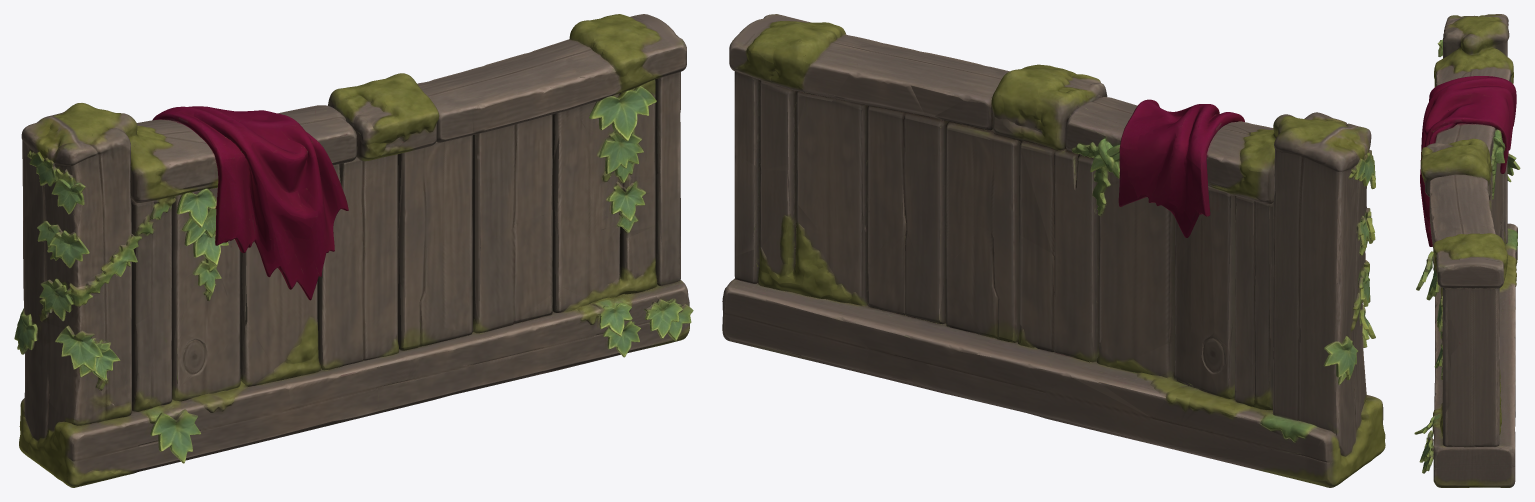
Rendered from wall-03.obj.
3 views of the same model, side by side, from view 1: azimuth 30°, elevation 25°; view 2: azimuth 150°, elevation 25°; view 3: azimuth 270°, elevation 25° (orthographic). The views are drawn at different scales.
Parts seen in each view (by area): view 1: Meshy_AI_Mossy_Wooden_Barricad_0919052926_texture; view 2: Meshy_AI_Mossy_Wooden_Barricad_0919052926_texture; view 3: Meshy_AI_Mossy_Wooden_Barricad_0919052926_texture.
Boxes of the visible parts, x1=… form: Meshy_AI_Mossy_Wooden_Barricad_0919052926_texture: x1=14, y1=14, x2=693, y2=487; Meshy_AI_Mossy_Wooden_Barricad_0919052926_texture: x1=722, y1=14, x2=1385, y2=487; Meshy_AI_Mossy_Wooden_Barricad_0919052926_texture: x1=1414, y1=14, x2=1520, y2=487.
Size of the model in its own units: 1.9 by 0.9961 by 0.3691.
Materials: 1 (1 with a texture image).
